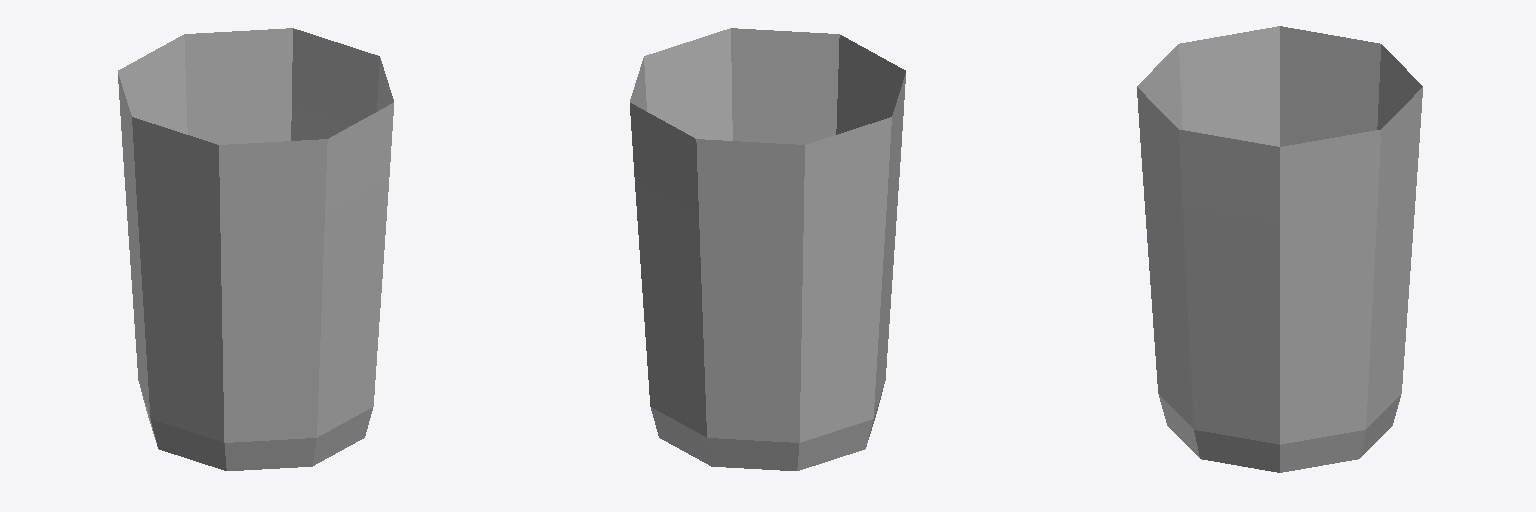
The model's file is sercups_vodka_glass.obj.
3 views of the same model, side by side, from view 1: azimuth 30°, elevation 25°; view 2: azimuth 150°, elevation 25°; view 3: azimuth 270°, elevation 25° (orthographic).
Parts seen in each view (by area): view 1: sercups_vodka_glass_Cylinder.120; view 2: sercups_vodka_glass_Cylinder.120; view 3: sercups_vodka_glass_Cylinder.120.
Part boxes in pixels (left/top/right/bottom): sercups_vodka_glass_Cylinder.120: left=118, top=28, right=393, bottom=470; sercups_vodka_glass_Cylinder.120: left=630, top=28, right=905, bottom=470; sercups_vodka_glass_Cylinder.120: left=1137, top=26, right=1422, bottom=472.
Size of the model in its own units: 1.58 by 2.06 by 1.58.